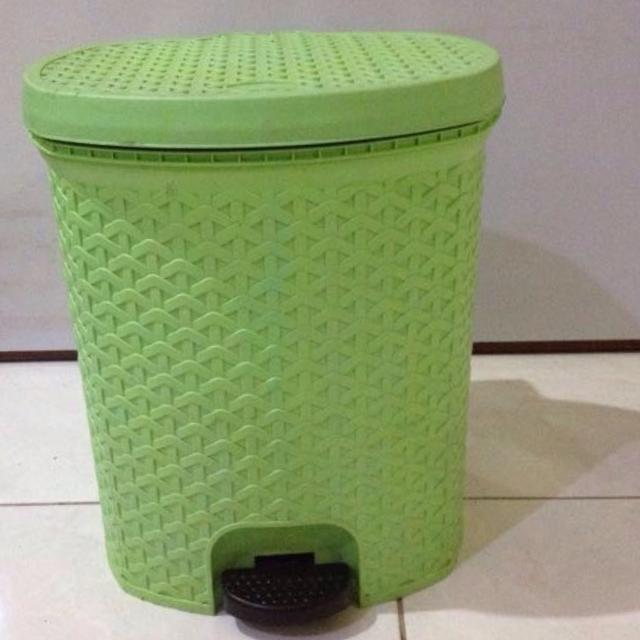Bote de Basura: (20, 35, 500, 625)
